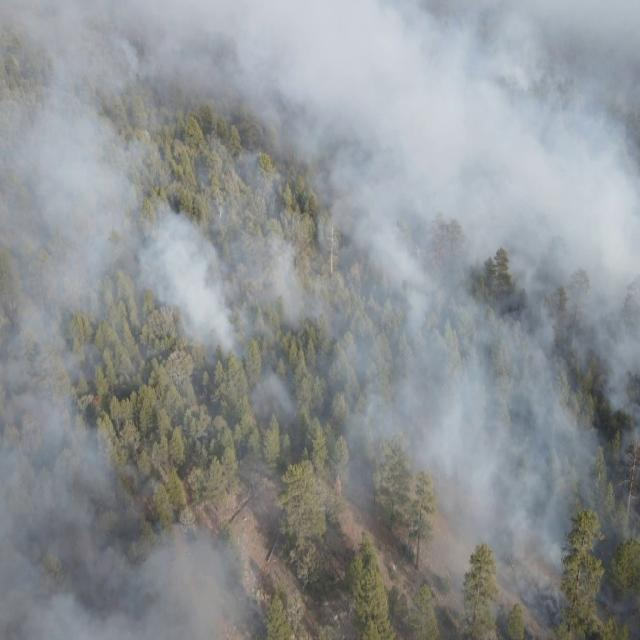fire: (89, 395, 100, 407), (604, 605, 610, 614)
smoke: (0, 0, 640, 640)
